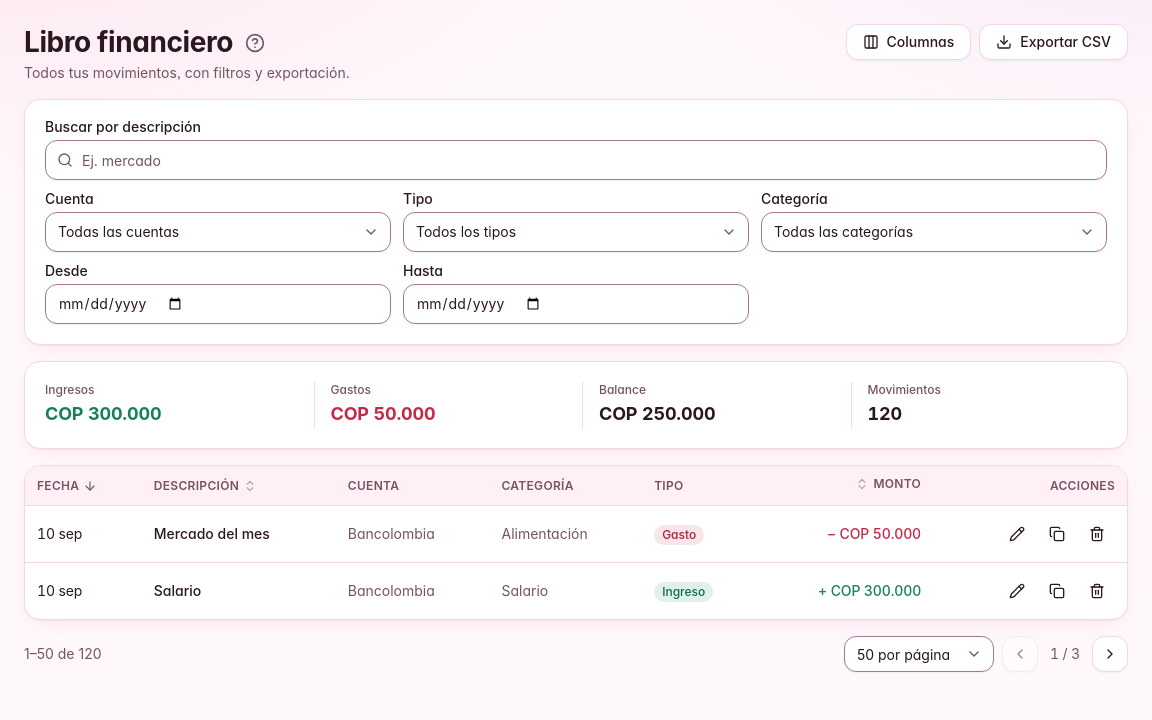
Test: Ledger — ayuda de la pantalla (M18) › el «?» junto al título explica la pantalla
What coordinates should you click on to do the following:
click the button named "Ayuda: Libro financiero"
I would click on:
 (255, 43)
Its box is [237,25,273,61].
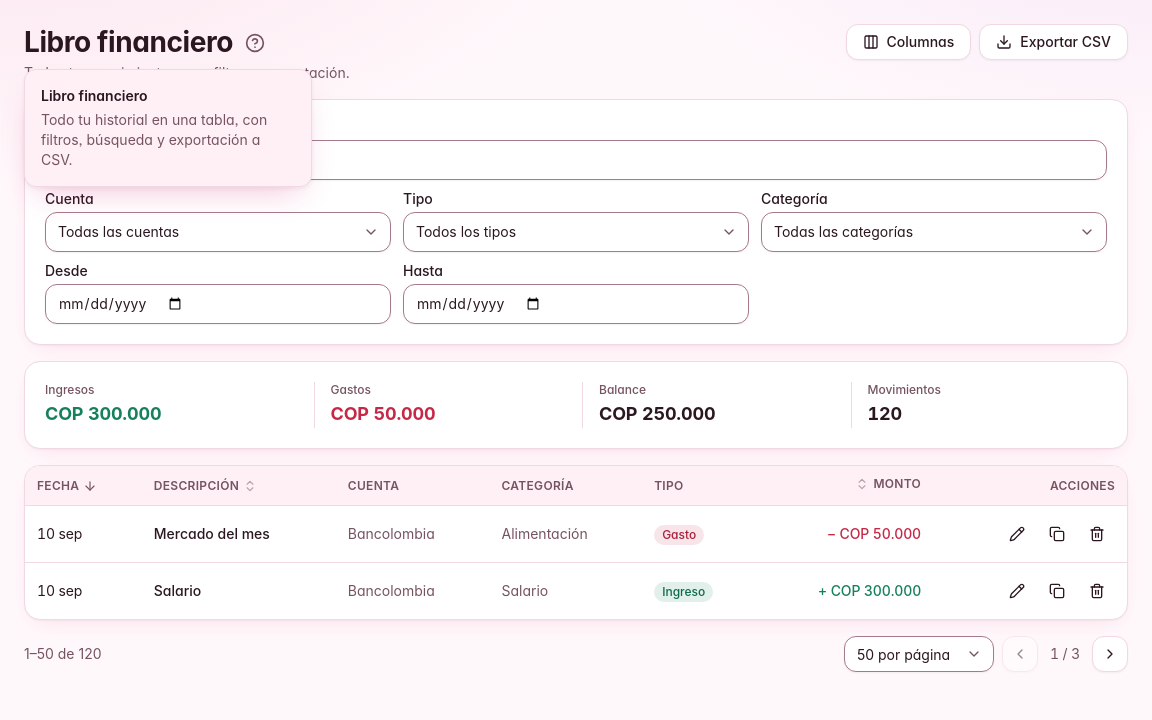
Expected: the element "Libro financiero" shows "Todo tu historial en una tabla, con filtros, búsqueda y exportación a CSV.", [41,111,267,168]
